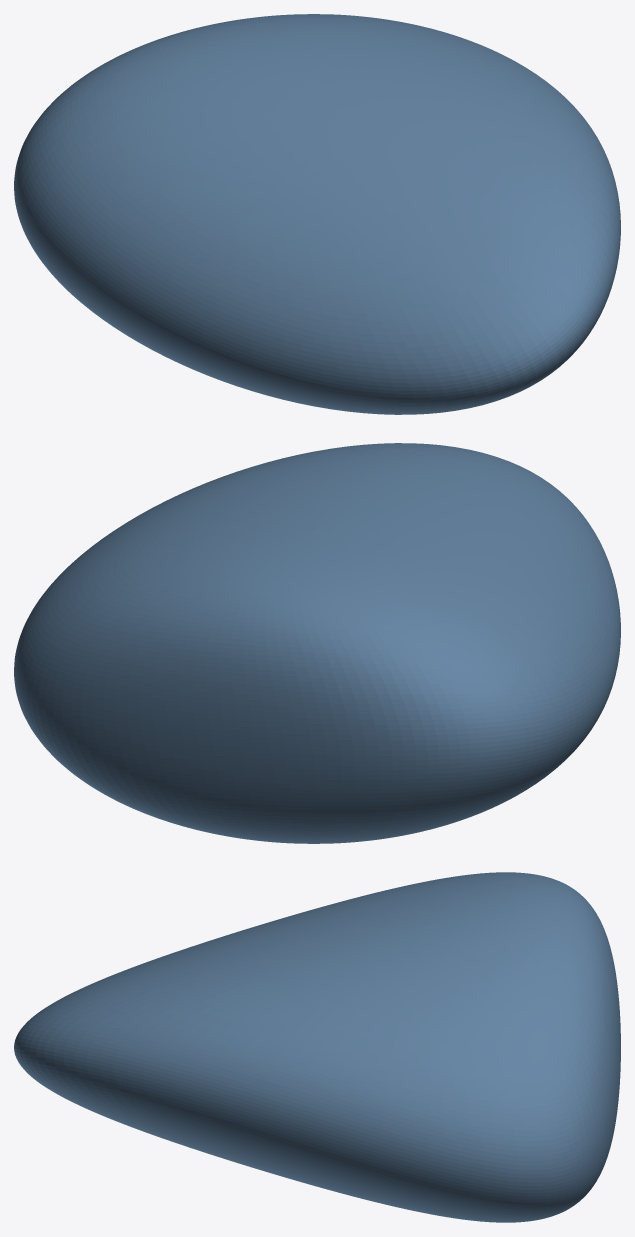
The model's file is assembly_05_Canopy.glb.
The picture shows the model from 3 angles, top to bottom: view 1: azimuth 30°, elevation 25°; view 2: azimuth 150°, elevation 25°; view 3: azimuth 270°, elevation 25°; orthographic projection. The views are drawn at different scales.
Visible parts, largest first — view 1: assembly_05_Canopy_gltf_export_temp; view 2: assembly_05_Canopy_gltf_export_temp; view 3: assembly_05_Canopy_gltf_export_temp.
Part boxes in pixels (box(x1,y1,x2,y2)): assembly_05_Canopy_gltf_export_temp: box(14, 14, 620, 414); assembly_05_Canopy_gltf_export_temp: box(14, 443, 620, 843); assembly_05_Canopy_gltf_export_temp: box(14, 872, 620, 1222).
Bounding box in the file's own units: 0.5122 × 0.2599 × 0.5757.
